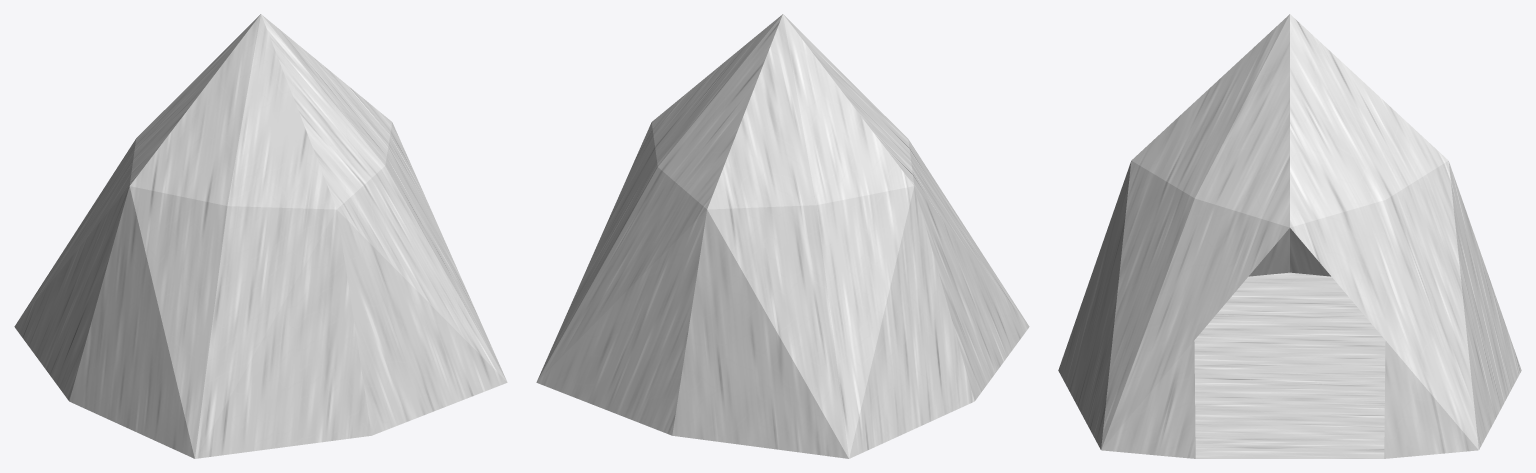
The model's file is tent.fbx.
3 renders of one model, left to right at view 1: azimuth 30°, elevation 25°; view 2: azimuth 150°, elevation 25°; view 3: azimuth 270°, elevation 25°, orthographic. The views are drawn at different scales.
Parts seen in each view (by area): view 1: Cone; view 2: Cone; view 3: Cone.
Boxes of the visible parts, x1=… form: Cone: x1=14, y1=14, x2=507, y2=458; Cone: x1=536, y1=14, x2=1029, y2=458; Cone: x1=1058, y1=14, x2=1521, y2=458.
Bounding box in the file's own units: 191 × 170 × 200.
